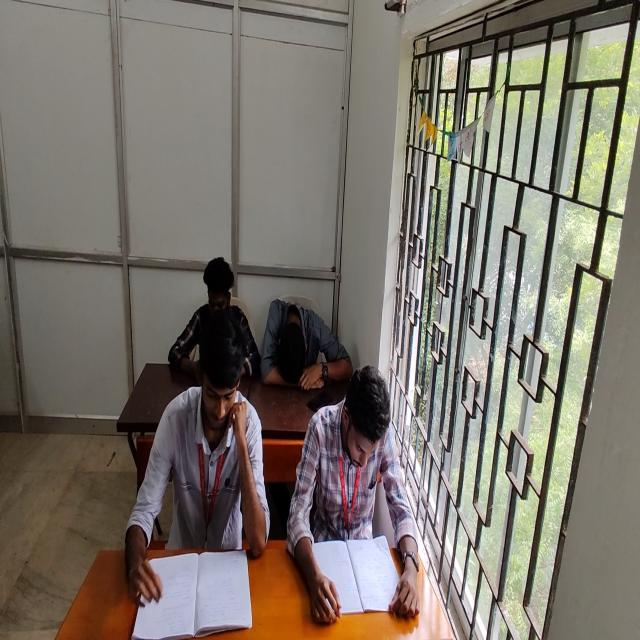reading: (126, 310, 270, 604), (287, 363, 409, 625)
sleeping: (261, 298, 351, 389)
using_mobile: (168, 256, 260, 383)
